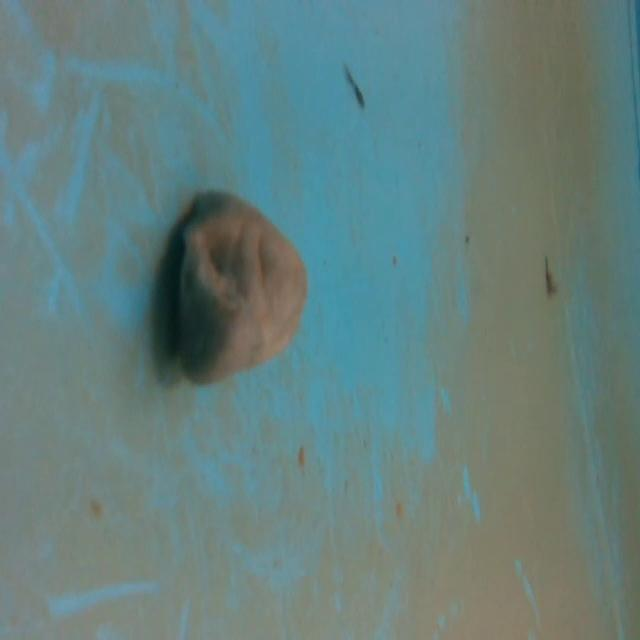rock: (160, 180, 311, 397)
